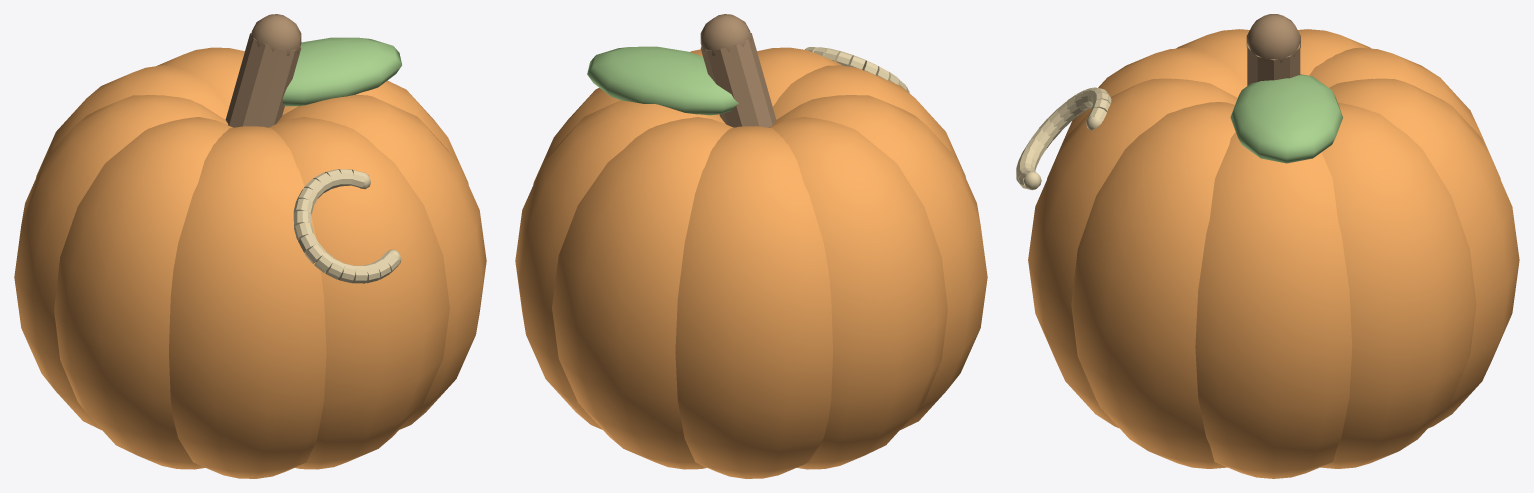
Rendered from secret-pumpkin-moon.glb.
The picture shows the model from 3 angles, left to right: view 1: azimuth 30°, elevation 25°; view 2: azimuth 150°, elevation 25°; view 3: azimuth 270°, elevation 25°; orthographic projection. The views are drawn at different scales.
Parts seen in each view (by area): view 1: secret-pumpkin-moon; view 2: secret-pumpkin-moon; view 3: secret-pumpkin-moon.
Boxes of the visible parts, x1,y1,x2,y2 form: secret-pumpkin-moon: (14, 14, 486, 478); secret-pumpkin-moon: (515, 14, 987, 478); secret-pumpkin-moon: (1016, 14, 1519, 478).
Size of the model in its own units: 0.5671 by 0.537 by 0.58.
